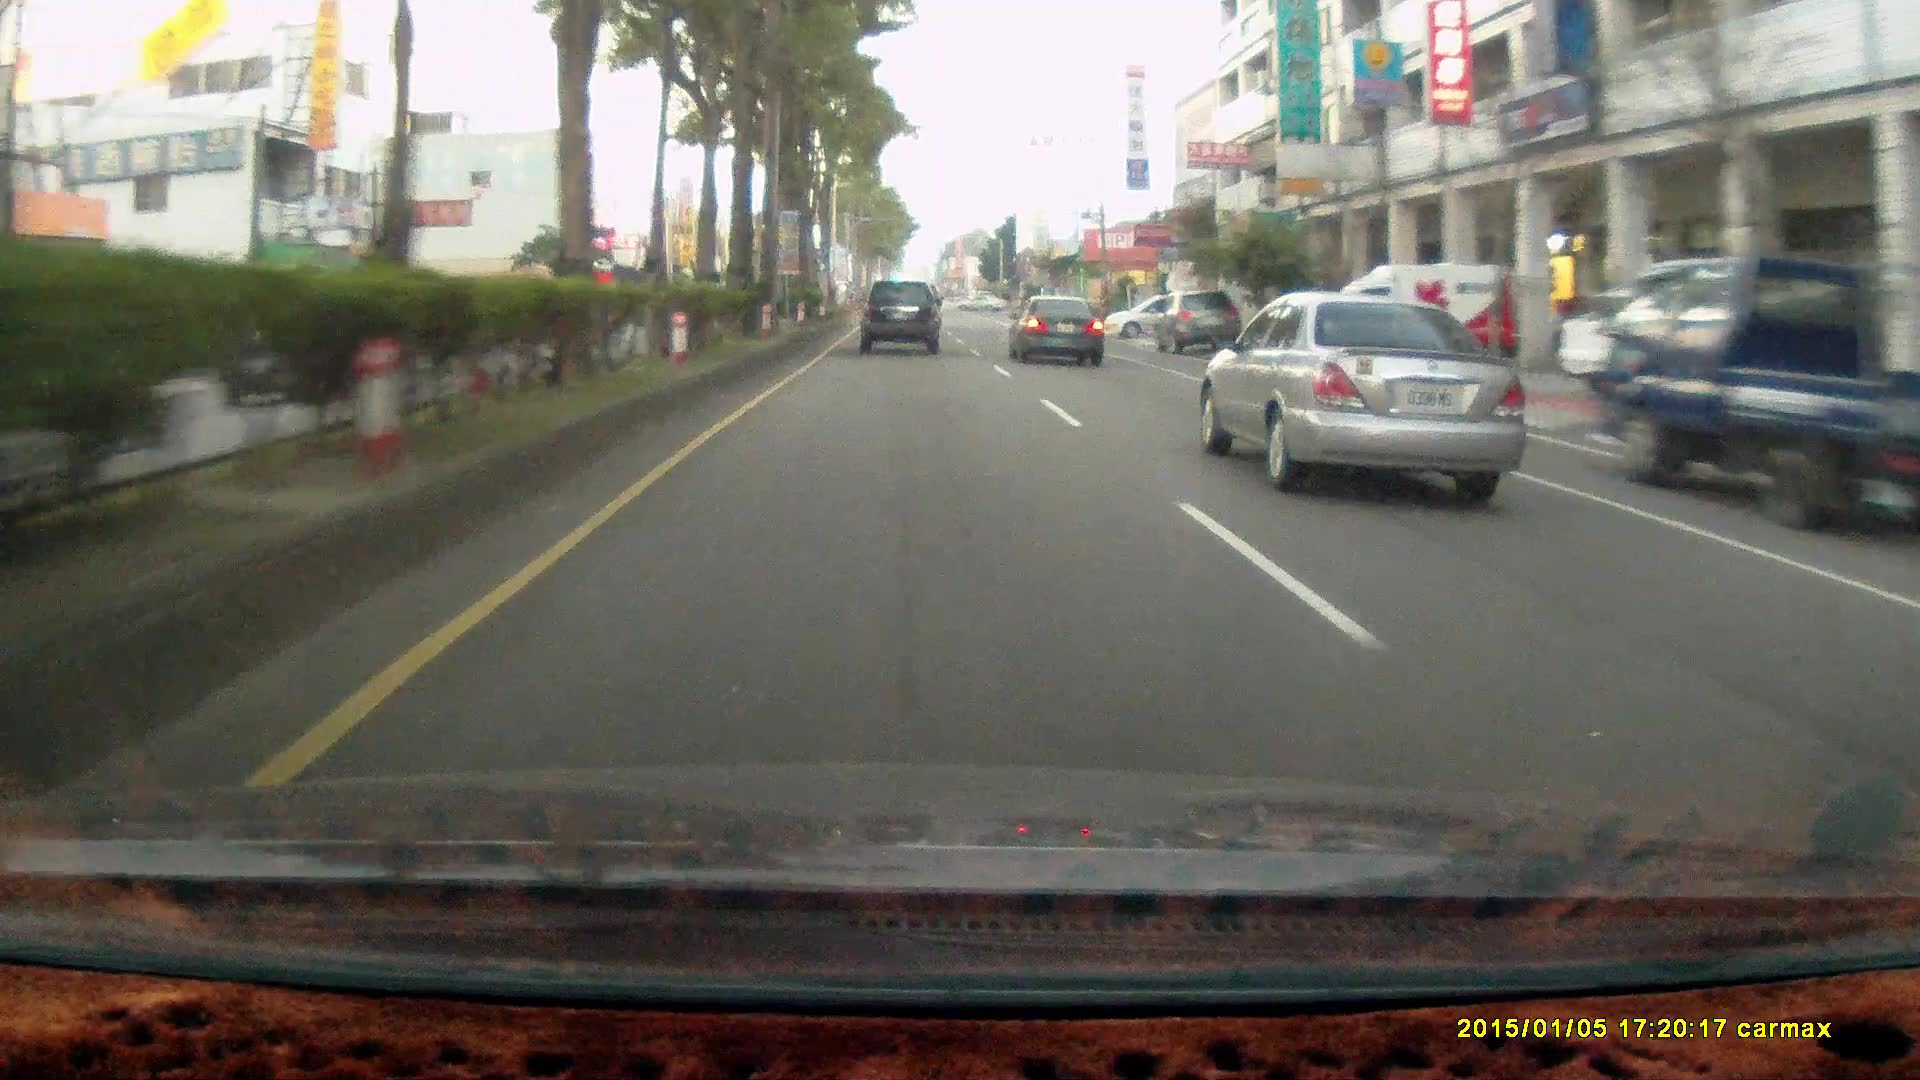vehicle: (1598, 253, 1920, 529), (1208, 289, 1535, 491), (1327, 258, 1520, 380), (1332, 260, 1524, 380), (1007, 290, 1109, 367), (1009, 287, 1105, 360), (858, 281, 944, 357), (858, 276, 939, 351), (1159, 289, 1244, 357), (1156, 289, 1241, 355)
